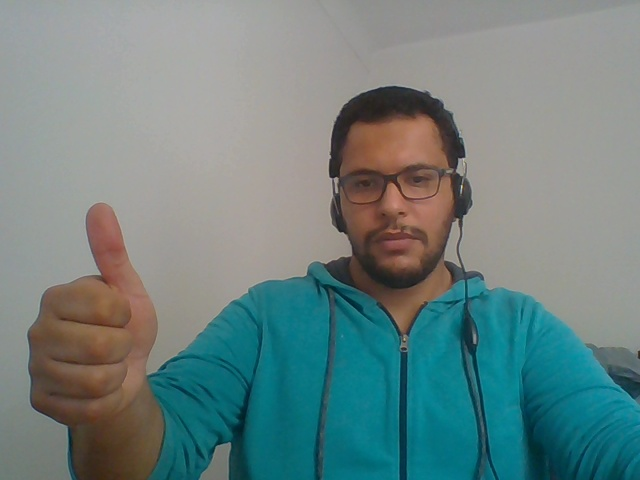ok: (9, 182, 169, 460)
